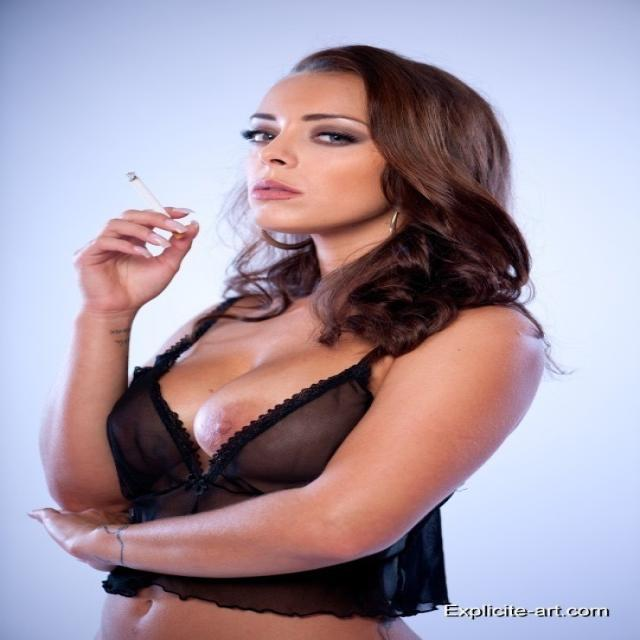rokok: (128, 169, 168, 217)
